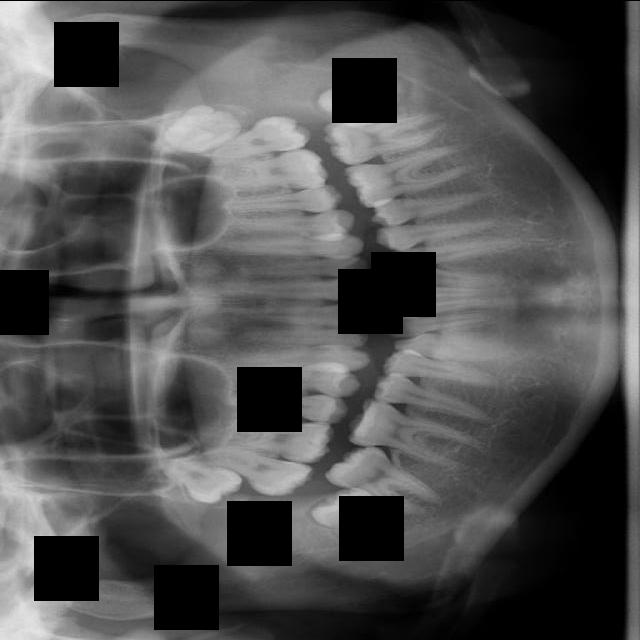3M ESPE Implant: (152, 451, 246, 509)
73: (617, 12, 622, 18)
BioHorizons Implant: (192, 109, 313, 167)
BioLife Implant: (143, 95, 245, 162)
Biomet 3i Implant: (311, 45, 418, 145)
Blue Sky Bio Implant: (322, 110, 450, 166)
Caries: (191, 434, 315, 503)
Implant: (324, 432, 450, 524)
Keystone Dental Implant: (307, 471, 411, 563)
